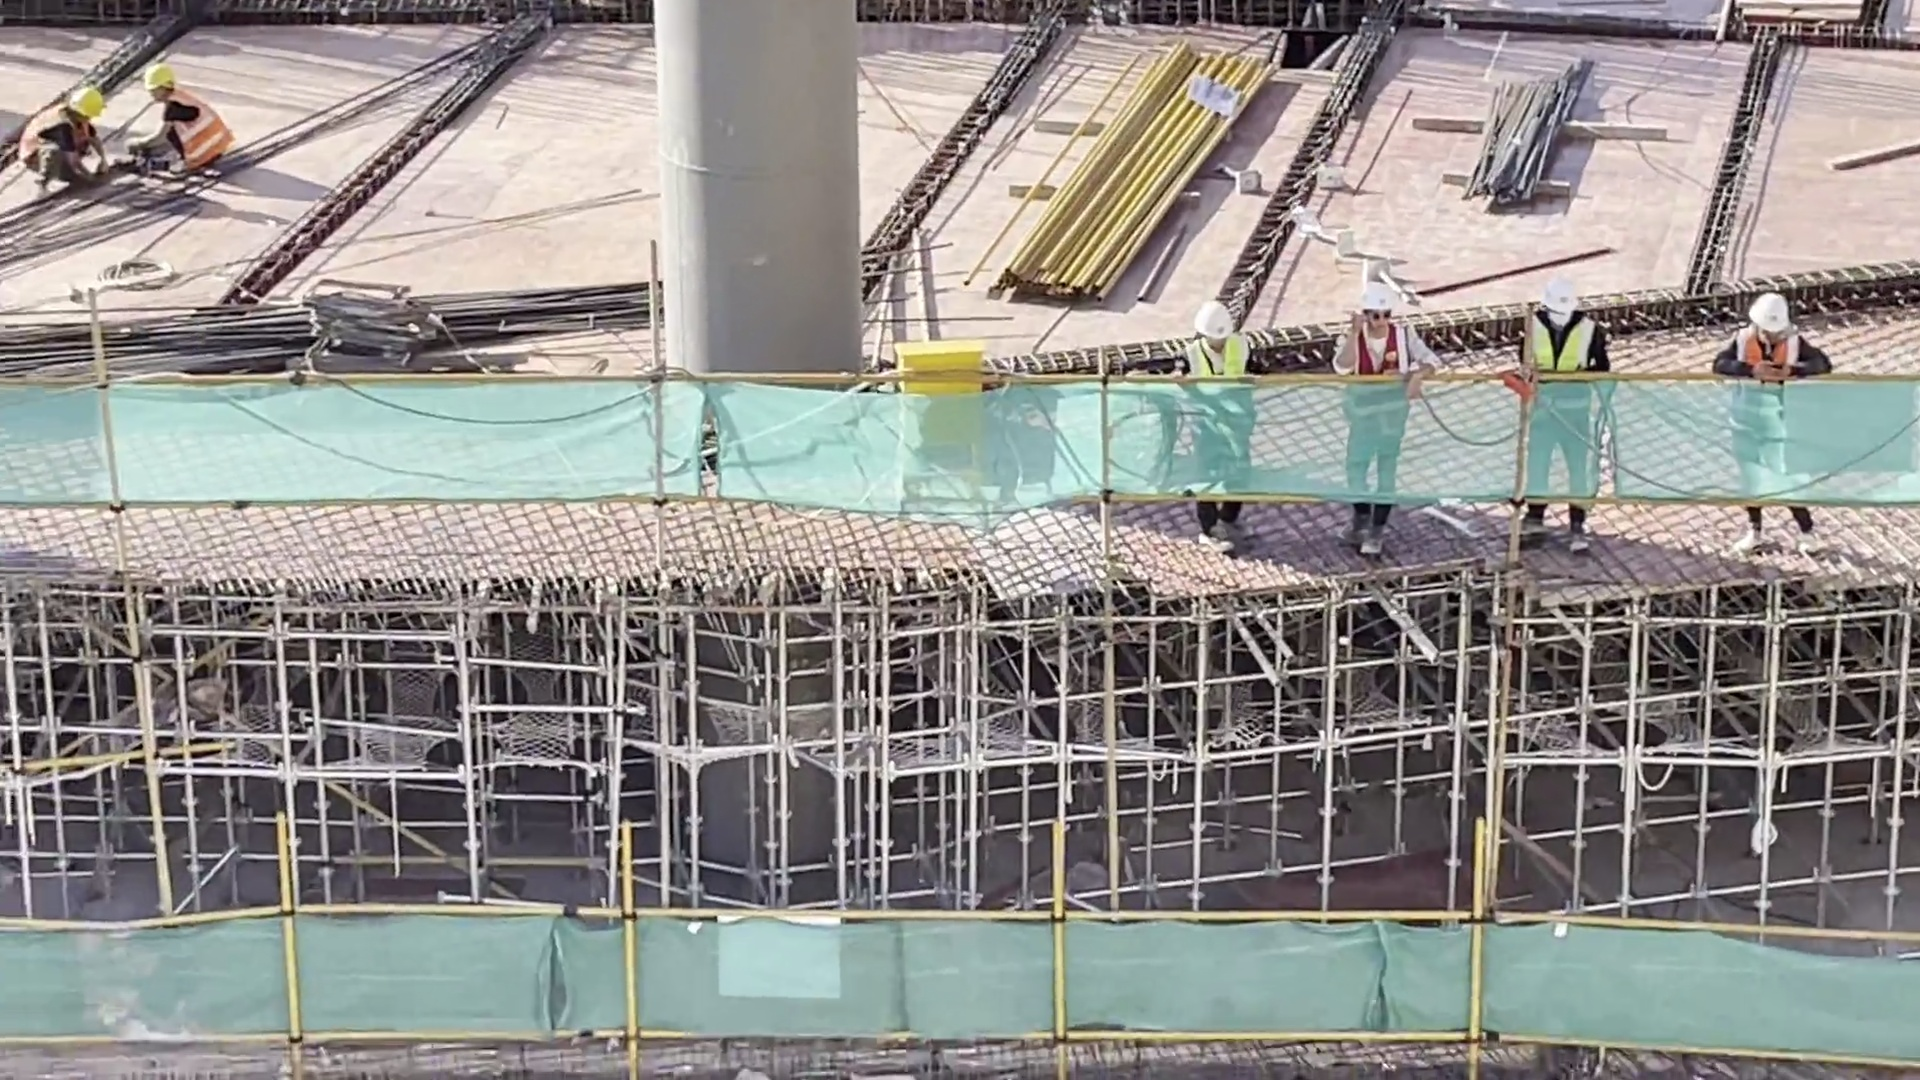ebox: (885, 316, 995, 509)
helmet: (66, 69, 108, 117), (1548, 269, 1584, 320), (1749, 294, 1791, 328), (1358, 285, 1395, 317), (1197, 312, 1233, 342), (141, 64, 175, 89)
person: (1514, 267, 1619, 572), (1722, 282, 1829, 557), (1164, 294, 1263, 545), (1334, 275, 1414, 560), (125, 63, 234, 194), (8, 89, 114, 180)
vest: (1733, 331, 1812, 397), (1525, 317, 1592, 386), (1185, 343, 1247, 398), (155, 111, 217, 164), (34, 106, 93, 160), (1349, 326, 1400, 386)
